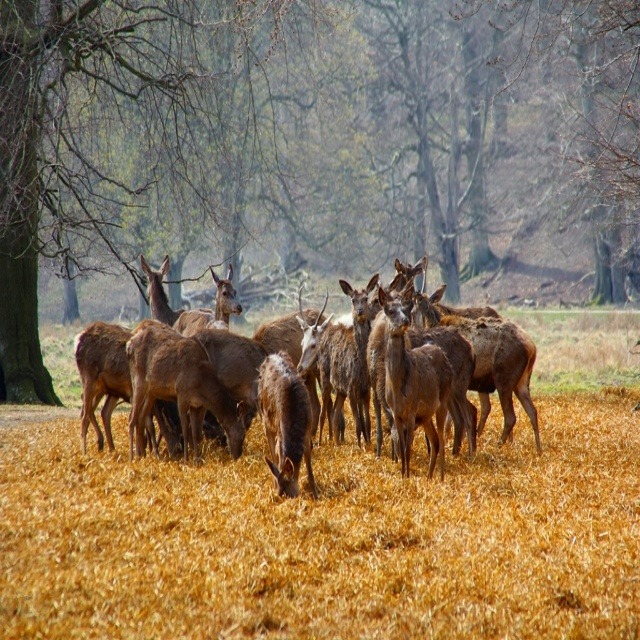Deer: (71, 257, 537, 499)
